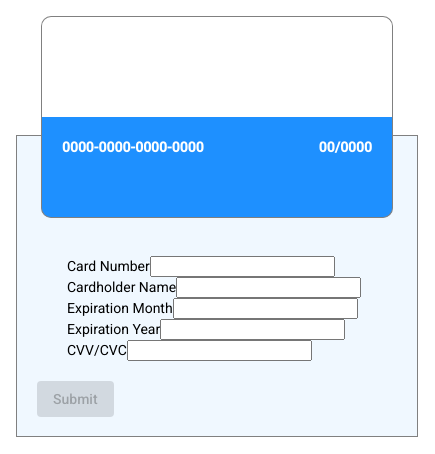
Year input › TC01 - when input only one number show error massage
Type "5" into the number field with id "year-input".
click(253, 330); type("5")  # box [160,319,345,340]
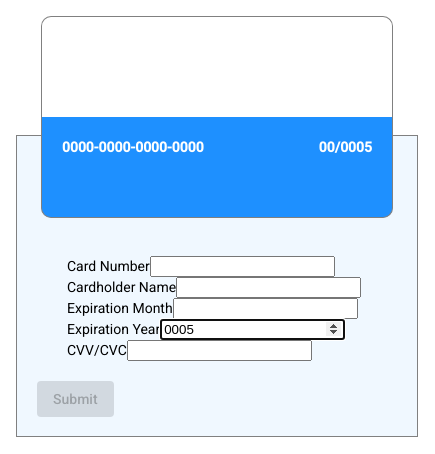
Check: the number field with id "year-input" holds "0005", box [160,319,345,340]
